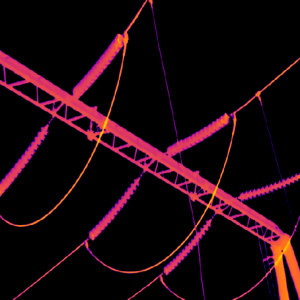insulator: (73, 34, 127, 98), (0, 125, 47, 196), (89, 176, 139, 241), (167, 109, 226, 155), (164, 216, 209, 275), (238, 171, 300, 200)
